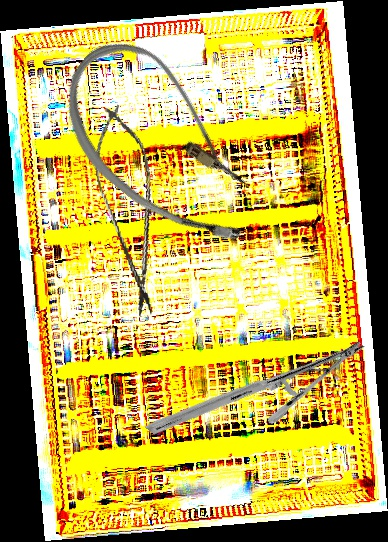Cannula: (34, 21, 295, 267)
Micro Scissor: (84, 101, 175, 320)
Needle Holder: (143, 270, 368, 505)
